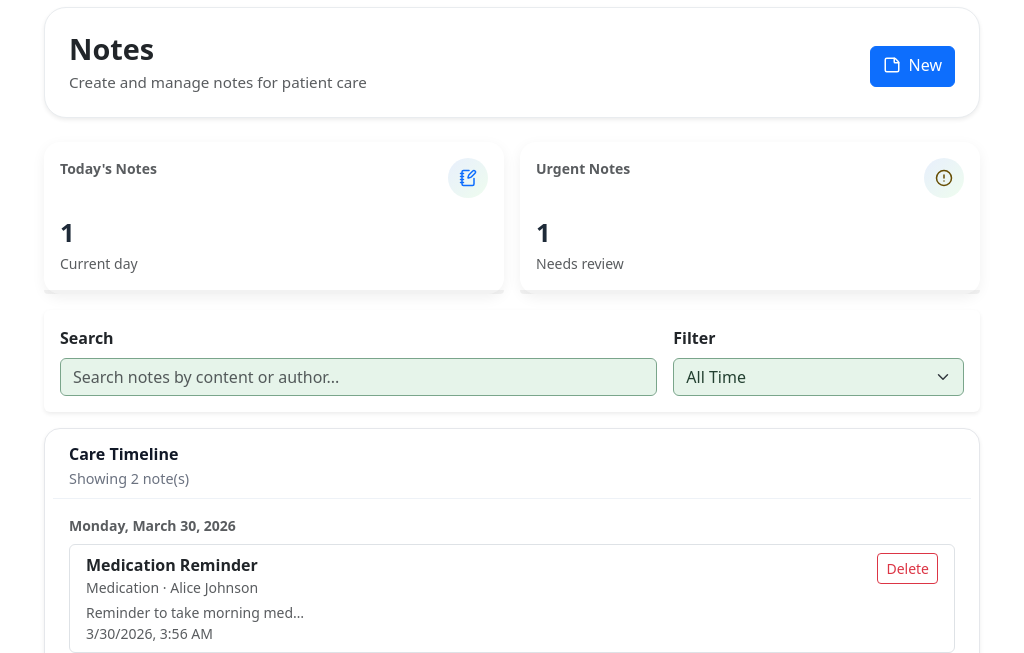
Test case: Notes page › opens the new note editor when clicking New
Check: the text "Medication Reminder" is shown, box [86, 554, 258, 576]
Click the button "New" at point(912, 67), box [870, 46, 955, 87]
(page scrolled)
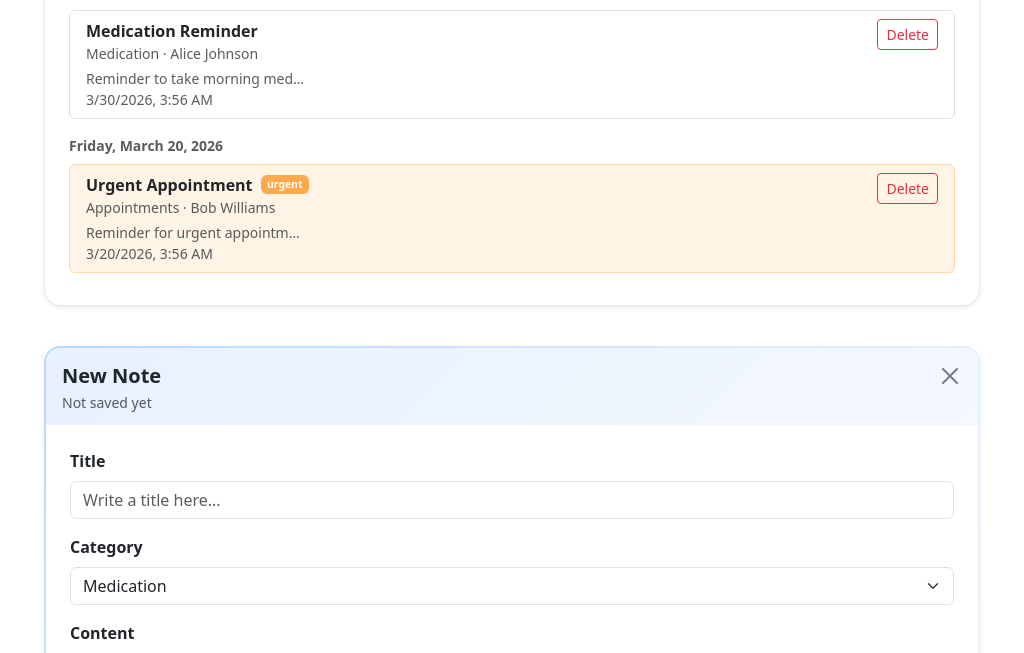
Check: the heading "New Note" is shown, box [62, 364, 161, 388]
